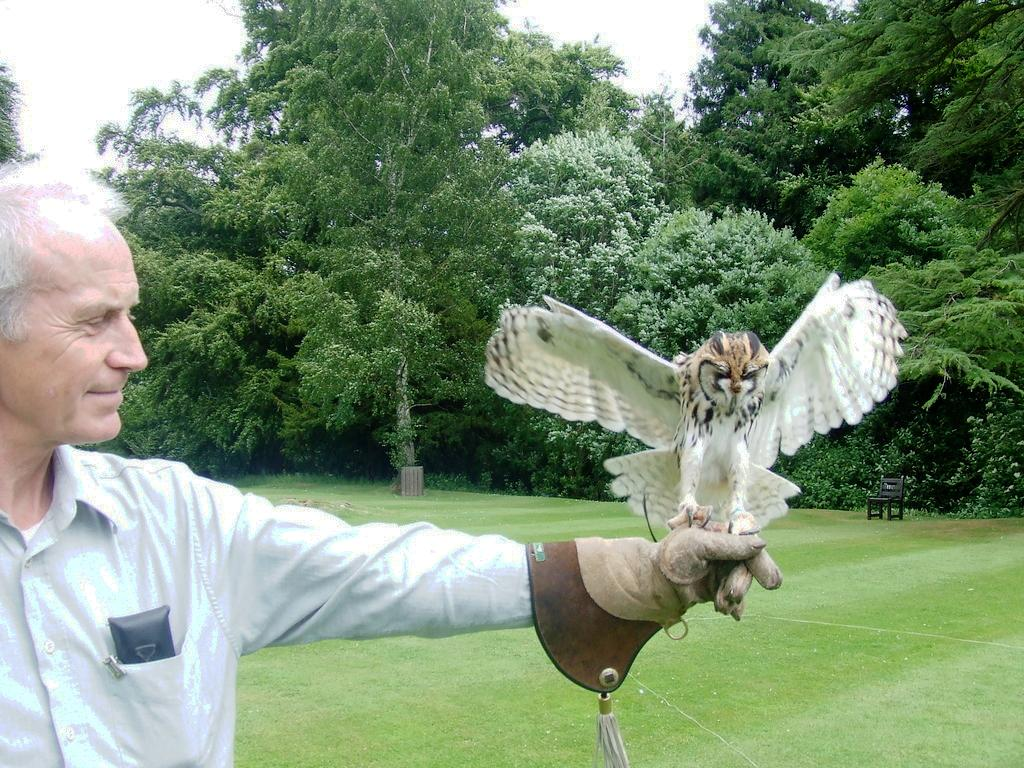Owl: (482, 272, 908, 536)
